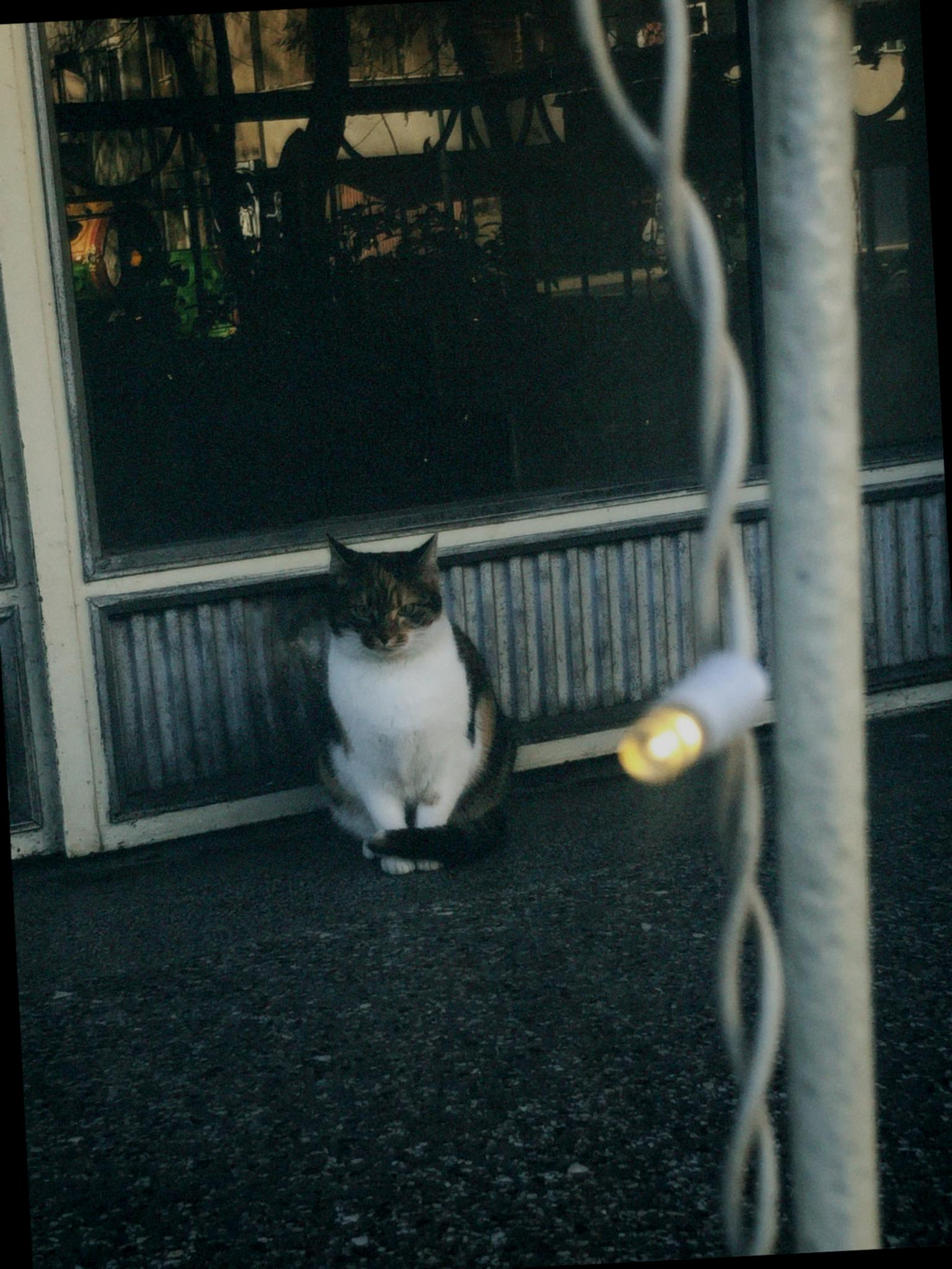macka: (308, 521, 524, 881)
